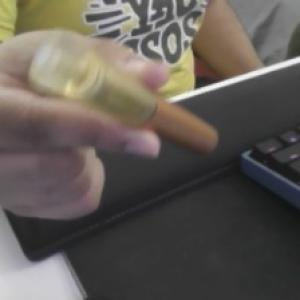Golden-E-Ciggirate: (26, 30, 224, 159)
